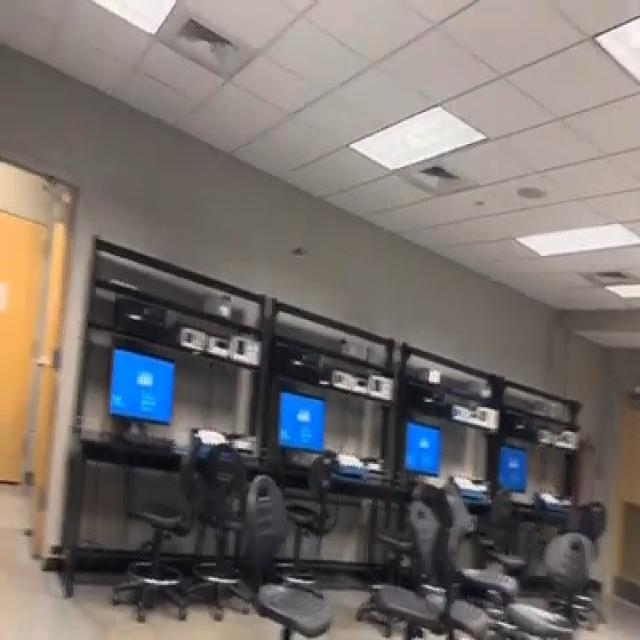drone: (286, 223, 317, 270)
